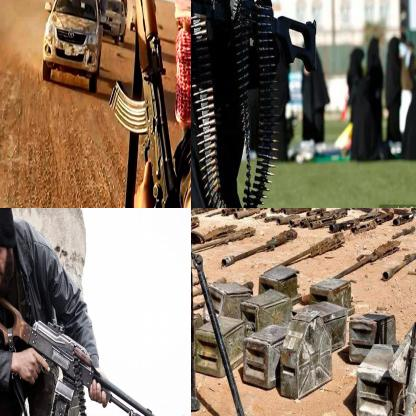rifle: (0, 288, 190, 415), (108, 0, 176, 207), (191, 0, 319, 72), (219, 228, 297, 271), (268, 232, 343, 276), (329, 239, 398, 281), (191, 226, 249, 264), (376, 249, 415, 284)
